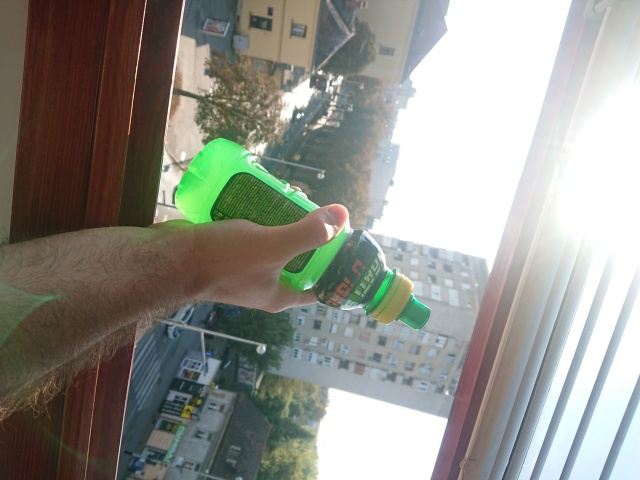Vindi Iso Sport Lemon-Grapefruit 500mL: (171, 135, 434, 332)
